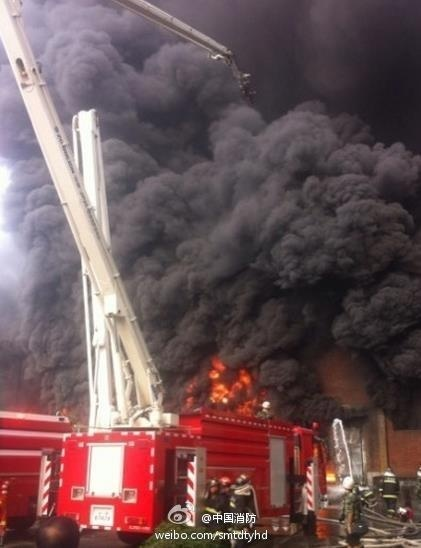fire: (186, 359, 264, 415)
